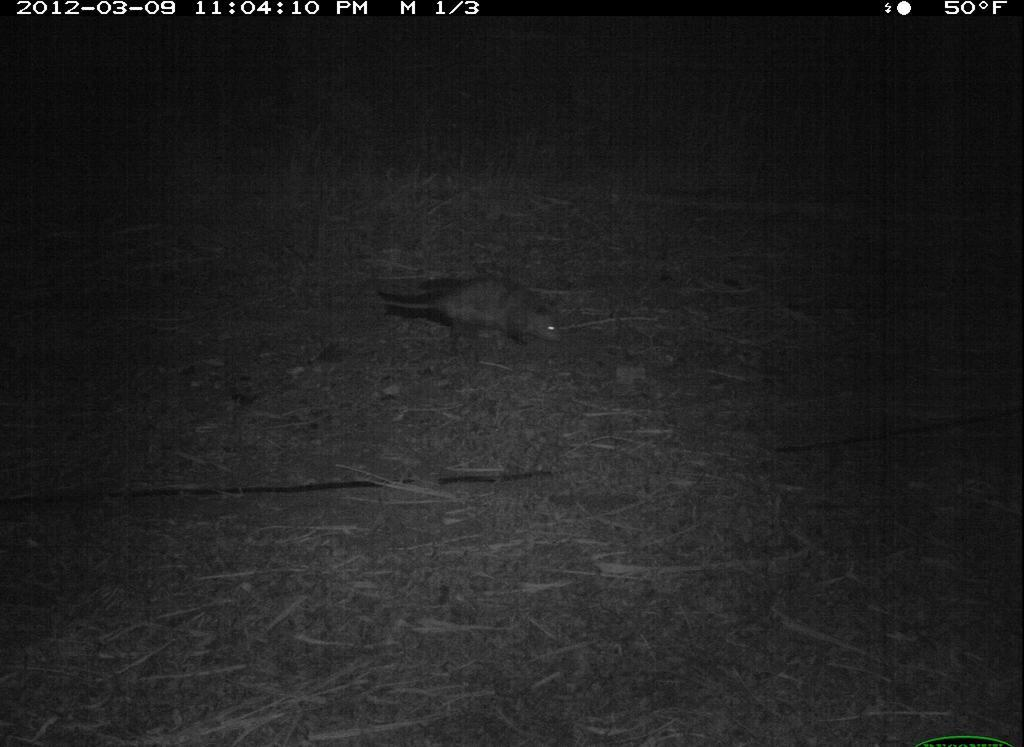opossum: (370, 271, 575, 363)
